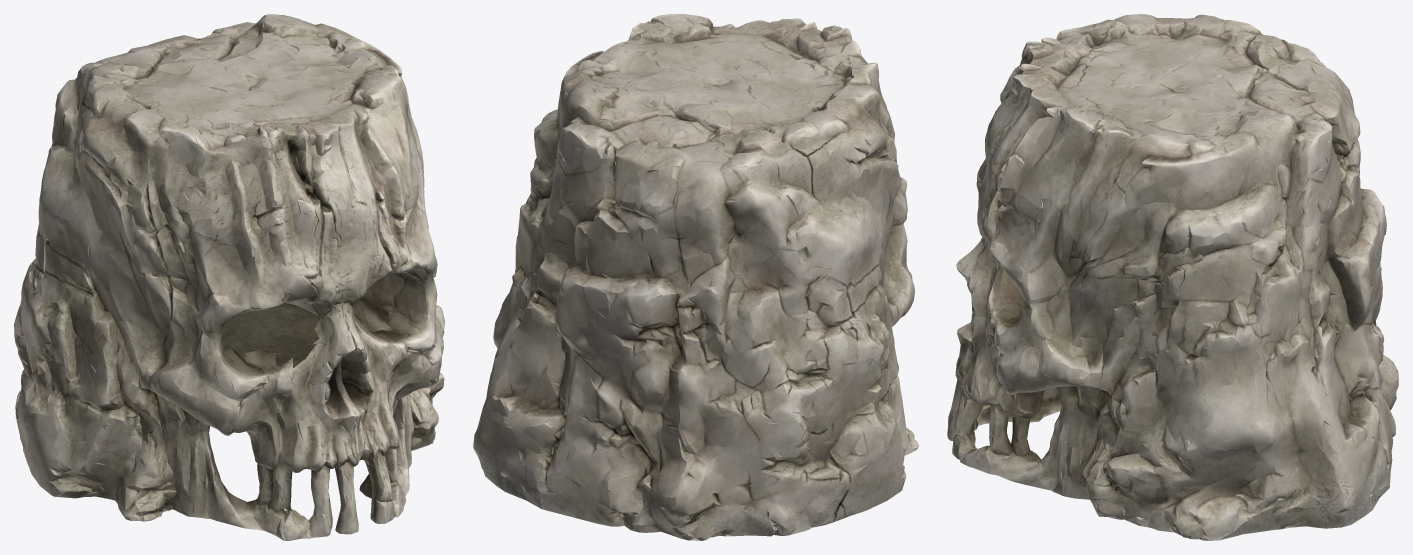
The model's file is sv_skullcliff.glb.
3 views of the same model, side by side, from view 1: azimuth 30°, elevation 25°; view 2: azimuth 150°, elevation 25°; view 3: azimuth 270°, elevation 25° (orthographic). The views are drawn at different scales.
Size of the model in its own units: 1.86 by 1.79 by 1.9.
Materials: 1 (1 with a texture image).
